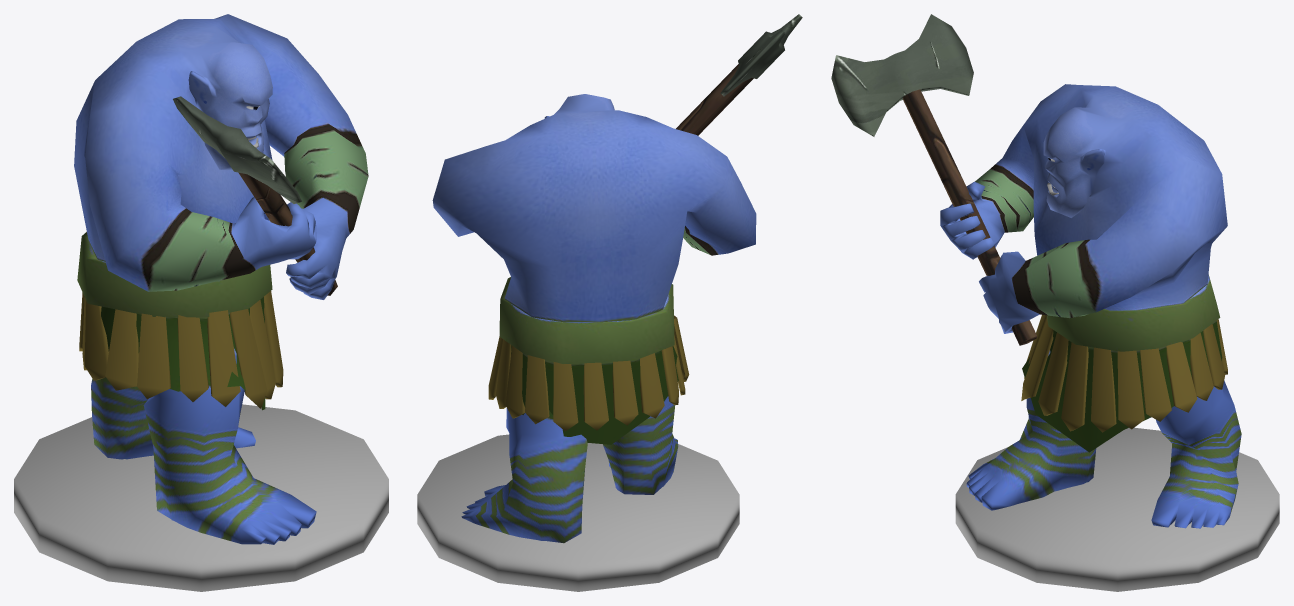
The model's file is Ciclope 1.fbx.
3 views of the same model, side by side, from view 1: azimuth 30°, elevation 25°; view 2: azimuth 150°, elevation 25°; view 3: azimuth 270°, elevation 25° (orthographic). The views are drawn at different scales.
Parts seen in each view (by area): view 1: Ciclope_body, base, axe; view 2: Ciclope_body, base, axe; view 3: Ciclope_body, base, axe.
Boxes of the visible parts, x1=… form: Ciclope_body: x1=74, y1=14, x2=368, y2=544; base: x1=14, y1=404, x2=388, y2=591; axe: x1=173, y1=96, x2=337, y2=295; Ciclope_body: x1=432, y1=94, x2=756, y2=543; base: x1=417, y1=434, x2=739, y2=591; axe: x1=676, y1=14, x2=802, y2=135; Ciclope_body: x1=940, y1=84, x2=1241, y2=528; base: x1=955, y1=427, x2=1279, y2=591; axe: x1=831, y1=14, x2=1037, y2=345.
Size of the model in its own units: 4.96 by 7.7 by 6.87.
